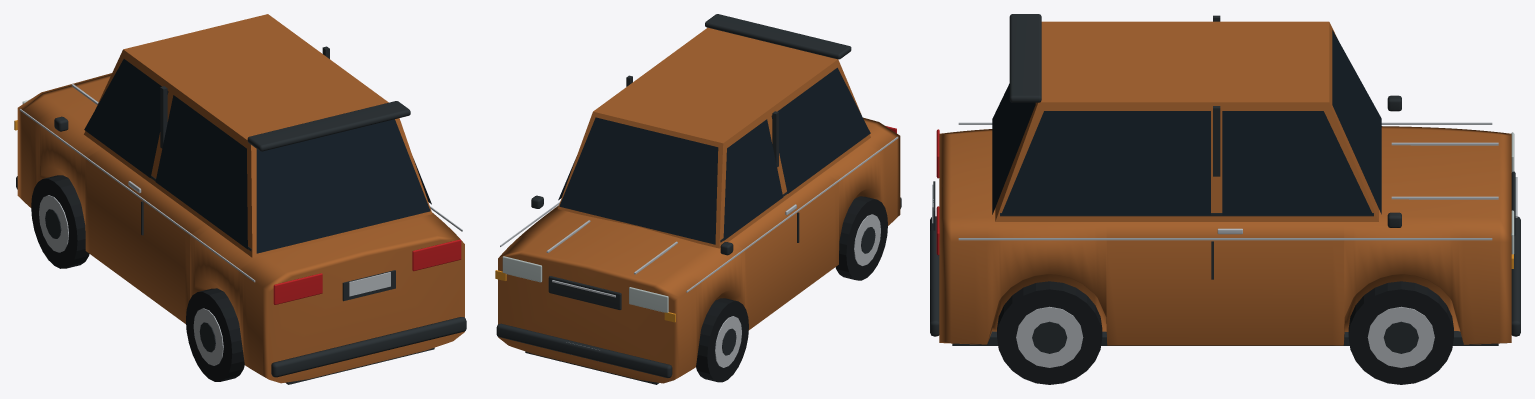
File: traffic_compact_v1.glb
The picture shows the model from 3 angles, left to right: view 1: azimuth 30°, elevation 25°; view 2: azimuth 150°, elevation 25°; view 3: azimuth 270°, elevation 25°; orthographic projection. The views are drawn at different scales.
Parts seen in each view (by area): view 1: sculpted body and wheel arches, solid roof and pillars, rear glass, side glass rear, side glass front, bumper, tire.002, tire, hatch spoiler, taillamp.001, taillamp, wheel-face (+5 smaller); view 2: sculpted body and wheel arches, solid roof and pillars, windshield, side glass rear, side glass front, bumper.001, tire, tire.002, hatch spoiler, front grille, wheel-face.004, wheel-face (+3 smaller); view 3: sculpted body and wheel arches, solid roof and pillars, side glass rear.001, side glass front.001, tire.003, tire.001, windshield, hatch spoiler, rear glass, wheel-face.007, wheel-face.003, shoulder crease.001 (+7 smaller).
Part boxes in pixels (x1=…): sculpted body and wheel arches: x1=17, y1=73, x2=464, y2=383; solid roof and pillars: x1=84, y1=14, x2=432, y2=257; rear glass: x1=256, y1=119, x2=430, y2=253; side glass rear: x1=155, y1=95, x2=247, y2=249; side glass front: x1=84, y1=59, x2=168, y2=177; bumper: x1=271, y1=317, x2=466, y2=377; tire.002: x1=186, y1=288, x2=244, y2=381; tire: x1=31, y1=175, x2=89, y2=268; hatch spoiler: x1=247, y1=101, x2=410, y2=151; taillamp.001: x1=412, y1=239, x2=461, y2=271; taillamp: x1=273, y1=273, x2=322, y2=304; wheel-face: x1=39, y1=195, x2=68, y2=252; sculpted body and wheel arches: x1=498, y1=117, x2=900, y2=383; solid roof and pillars: x1=557, y1=27, x2=870, y2=248; windshield: x1=559, y1=117, x2=718, y2=244; side glass rear: x1=771, y1=67, x2=870, y2=193; side glass front: x1=723, y1=119, x2=783, y2=240; bumper.001: x1=496, y1=323, x2=672, y2=378; tire: x1=696, y1=298, x2=748, y2=382; tire.002: x1=835, y1=196, x2=887, y2=280; hatch spoiler: x1=705, y1=14, x2=851, y2=59; front grille: x1=548, y1=276, x2=621, y2=309; wheel-face.004: x1=854, y1=214, x2=880, y2=265; wheel-face: x1=715, y1=316, x2=741, y2=367; sculpted body and wheel arches: x1=939, y1=126, x2=1511, y2=345; solid roof and pillars: x1=995, y1=21, x2=1378, y2=221; side glass rear.001: x1=1001, y1=111, x2=1210, y2=215; side glass front.001: x1=1222, y1=111, x2=1372, y2=215; tire.003: x1=997, y1=281, x2=1102, y2=384; tire.001: x1=1348, y1=281, x2=1453, y2=384; windshield: x1=1332, y1=30, x2=1381, y2=214; hatch spoiler: x1=1009, y1=14, x2=1041, y2=102; rear glass: x1=992, y1=83, x2=1035, y2=214; wheel-face.007: x1=1016, y1=306, x2=1083, y2=367; wheel-face.003: x1=1367, y1=306, x2=1434, y2=367; shoulder crease.001: x1=958, y1=238, x2=1492, y2=240.
Size of the model in its own units: 1.82 by 1.86 by 3.7.
